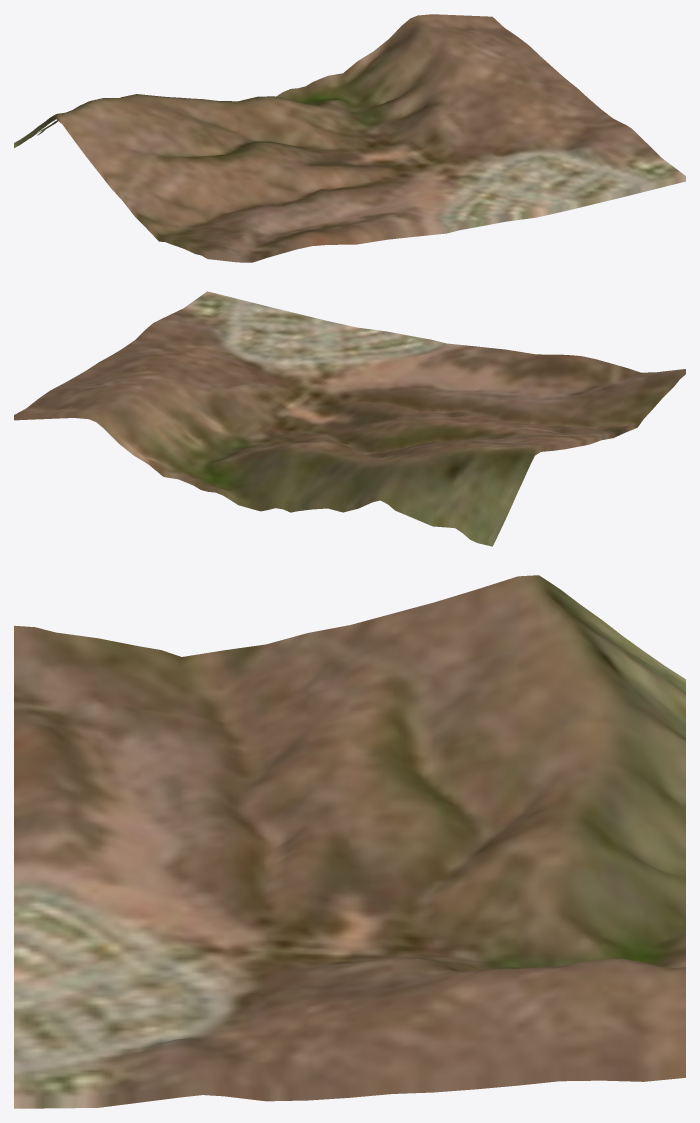
The model's file is terrain_r0_c4_lod2.glb.
3 renders of one model, top to bottom at view 1: azimuth 30°, elevation 25°; view 2: azimuth 150°, elevation 25°; view 3: azimuth 270°, elevation 25°, orthographic. The views are drawn at different scales.
Visible parts, largest first — view 1: terrain_r0_c4_lod2; view 2: terrain_r0_c4_lod2; view 3: terrain_r0_c4_lod2.
Part boxes in pixels (bbox=[...]): terrain_r0_c4_lod2: bbox=[14, 14, 685, 262]; terrain_r0_c4_lod2: bbox=[14, 291, 685, 546]; terrain_r0_c4_lod2: bbox=[14, 575, 685, 1108].
Bounding box in the file's own units: 1125 × 195 × 787.
1 material, 1 textured.
